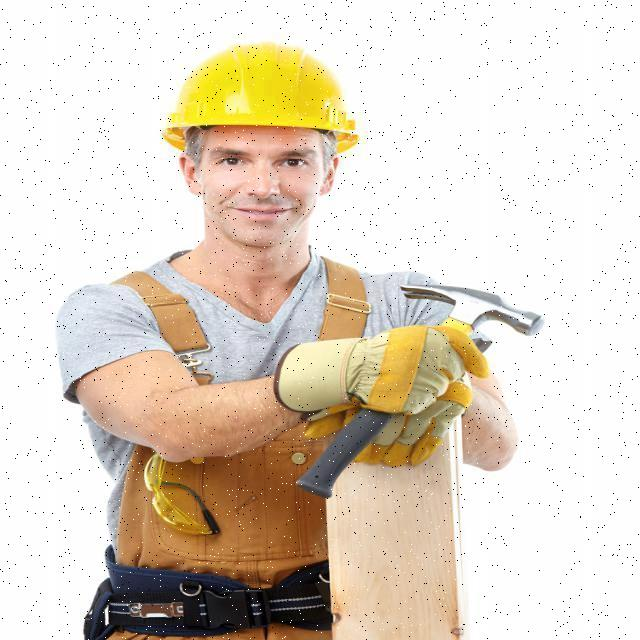Hard_hat: (163, 41, 364, 148)
Person: (52, 30, 551, 626)
